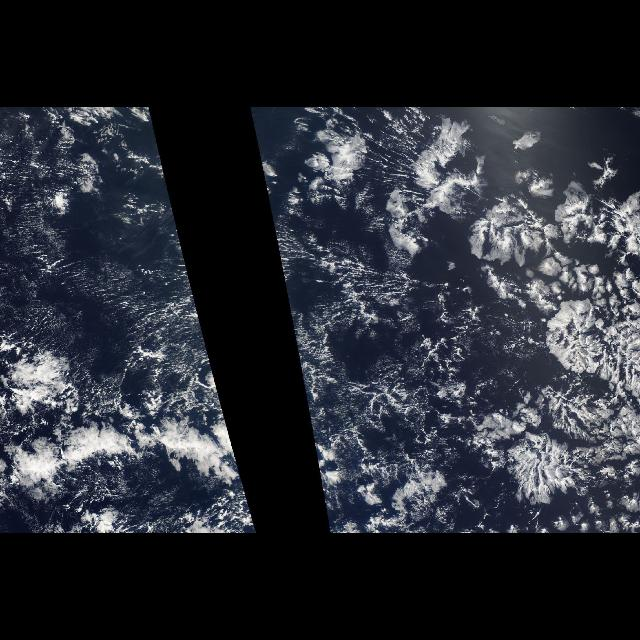Flower: (259, 110, 639, 532)
Sugar: (1, 108, 230, 432), (283, 287, 545, 433)
